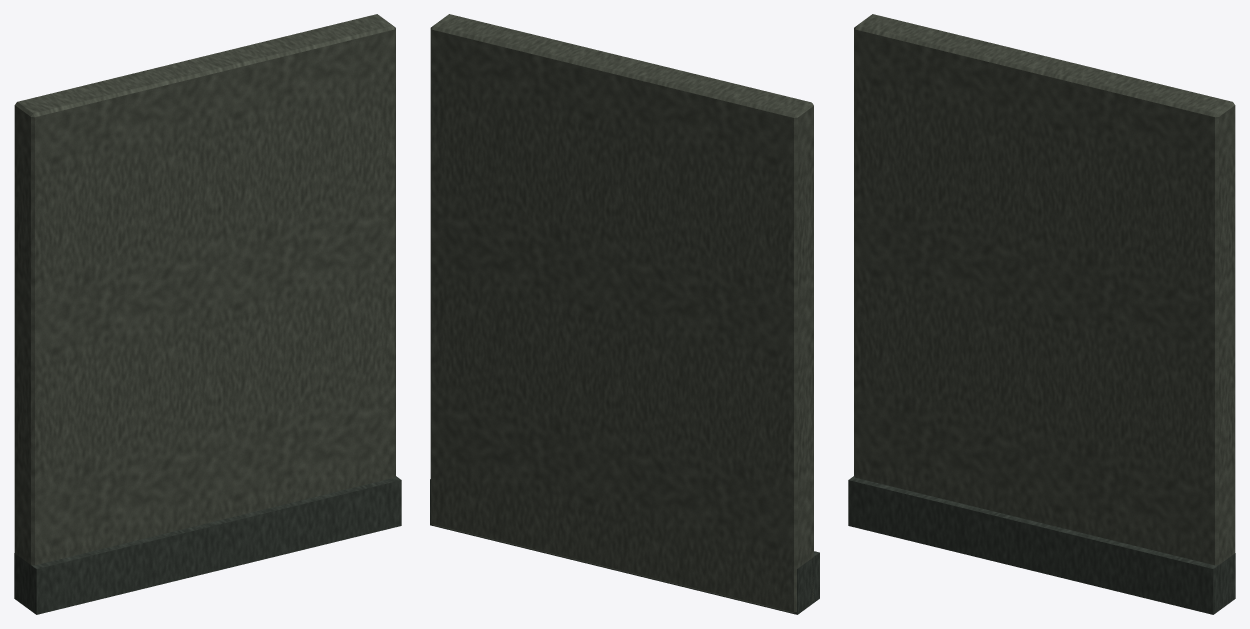
File: Wall_Concrete_2m.glb
3 views of the same model, side by side, from view 1: azimuth 30°, elevation 25°; view 2: azimuth 150°, elevation 25°; view 3: azimuth 330°, elevation 25° (orthographic).
Visible parts, largest first — view 1: Wall_Concrete_2m; view 2: Wall_Concrete_2m; view 3: Wall_Concrete_2m.
Boxes of the visible parts, box(x1,y1,x2,y2) form: Wall_Concrete_2m: box(14, 14, 401, 614); Wall_Concrete_2m: box(430, 14, 819, 614); Wall_Concrete_2m: box(848, 14, 1235, 614).
Bounding box in the file's own units: 2 × 2.6 × 0.22.
2 materials, 2 textured.
